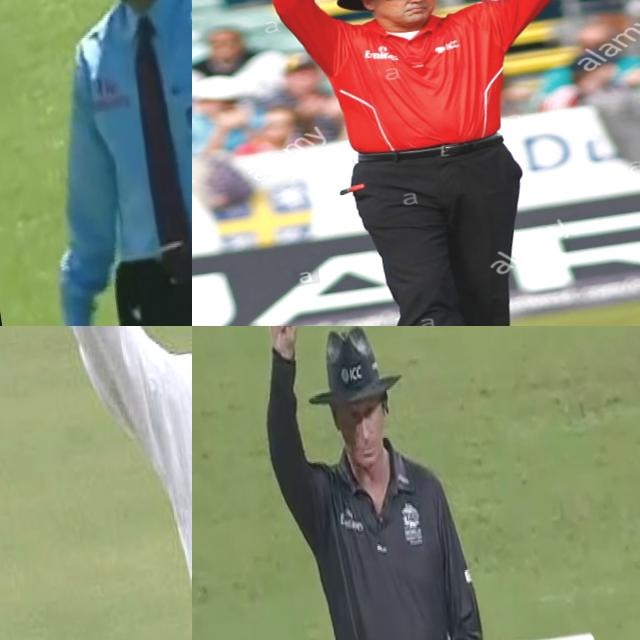No_Ball: (0, 0, 192, 326)
Out: (236, 326, 490, 640), (0, 326, 192, 640)
Six: (245, 0, 640, 326)
